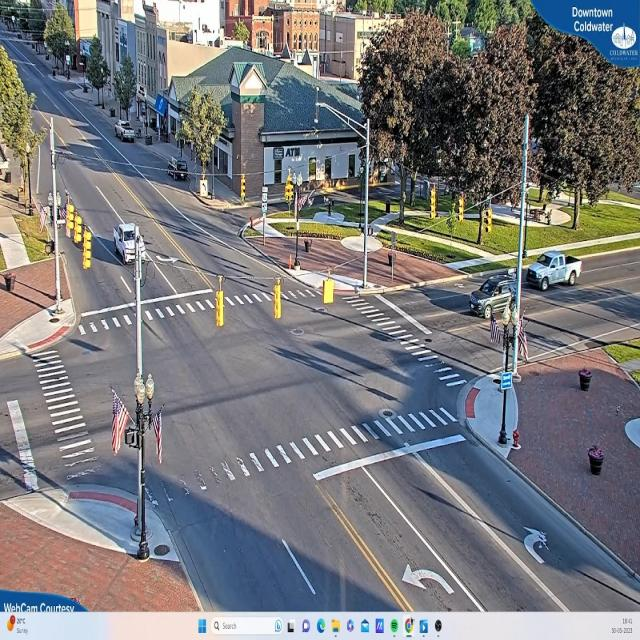car: (526, 251, 584, 291), (110, 219, 148, 264), (117, 122, 137, 144)
